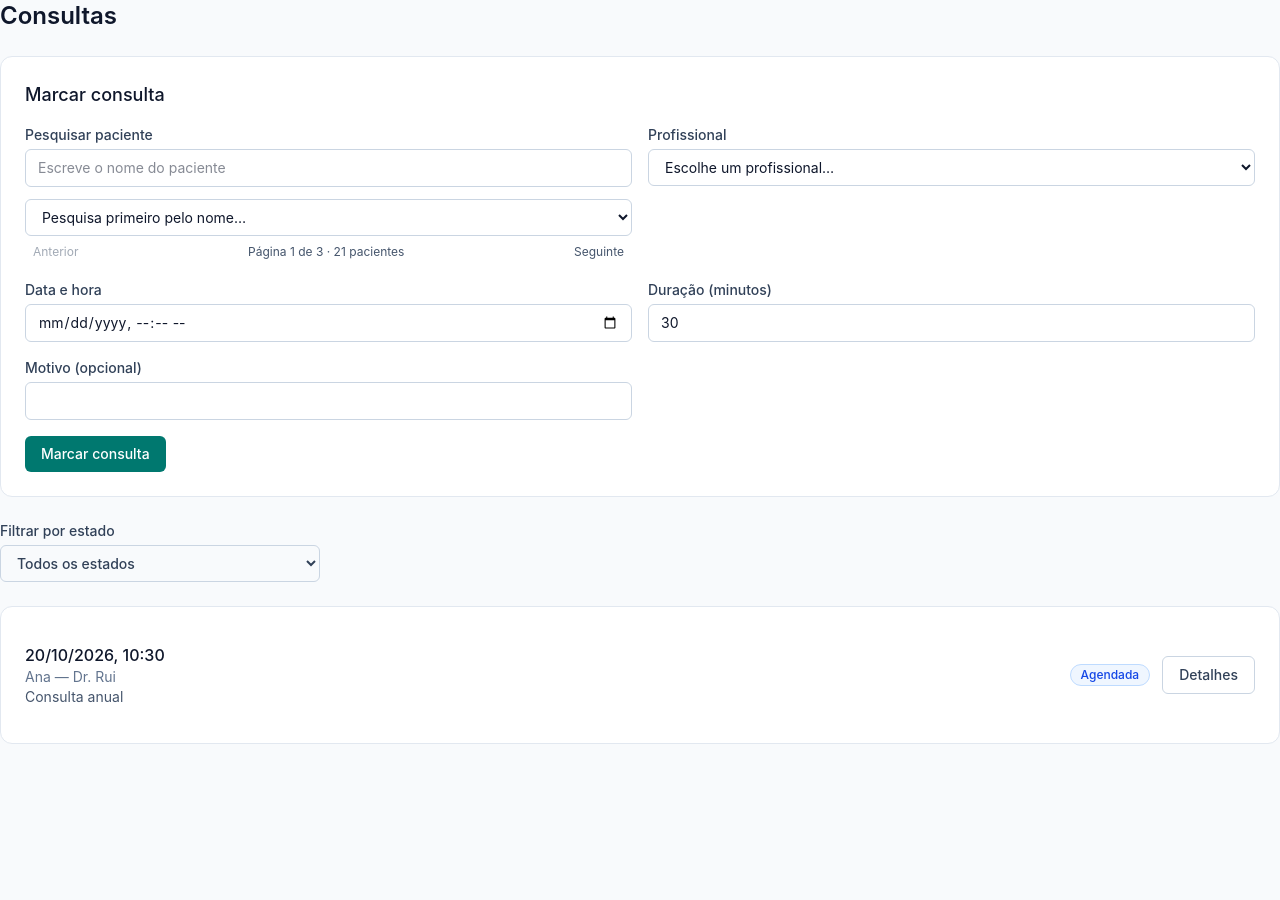
Test case: AppointmentsPage clinical workflow › updates and explicitly cancels an existing appointment
Click the button "Detalhes". click: (1209, 675)
box: x1=1162 y1=656 x2=1255 y2=694
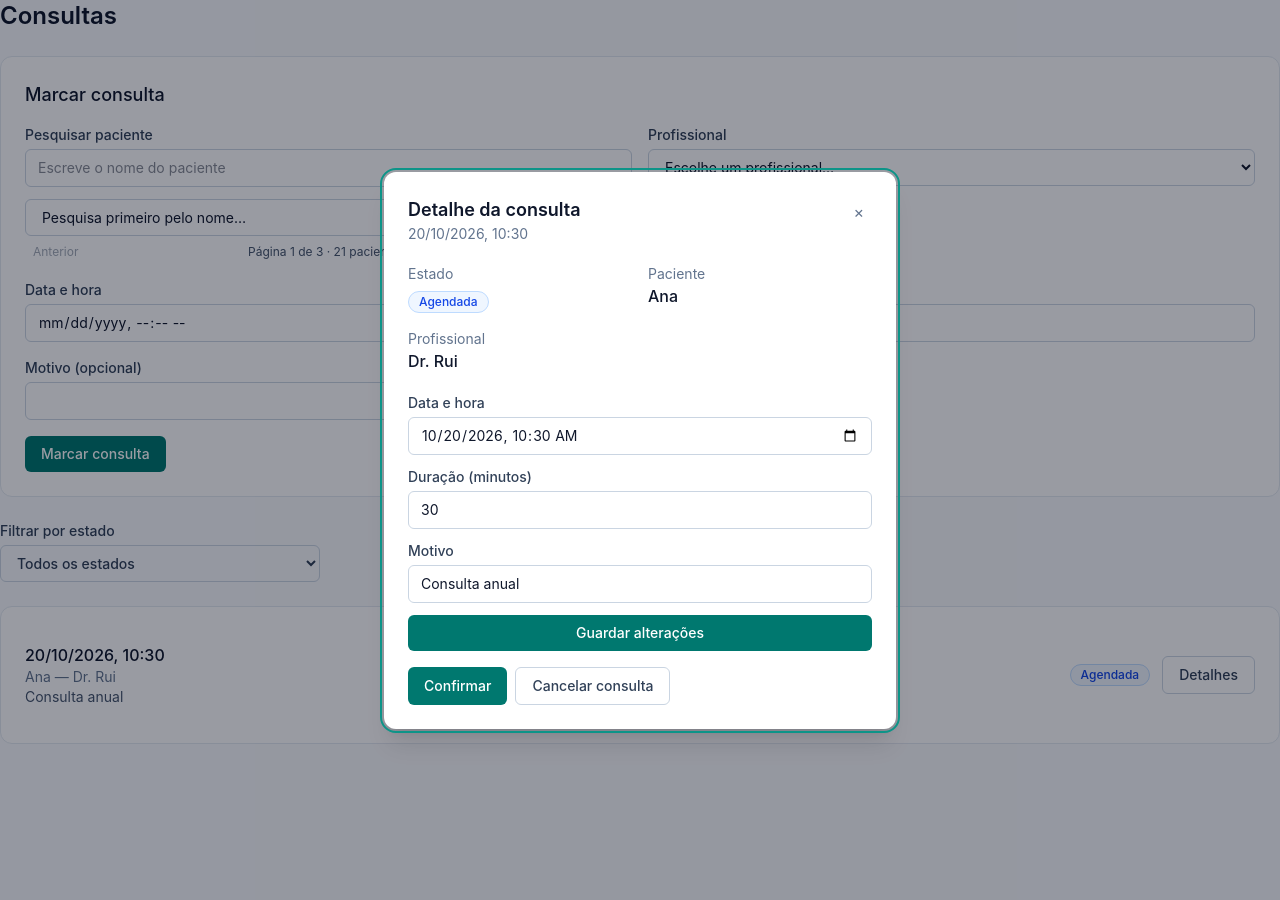
Expected: the number field labelled "Duração (minutos)" is shown
Replace the text in the number field labelled "Duração (minutos)" with "45". click: (640, 510)
box: x1=408 y1=490 x2=872 y2=528
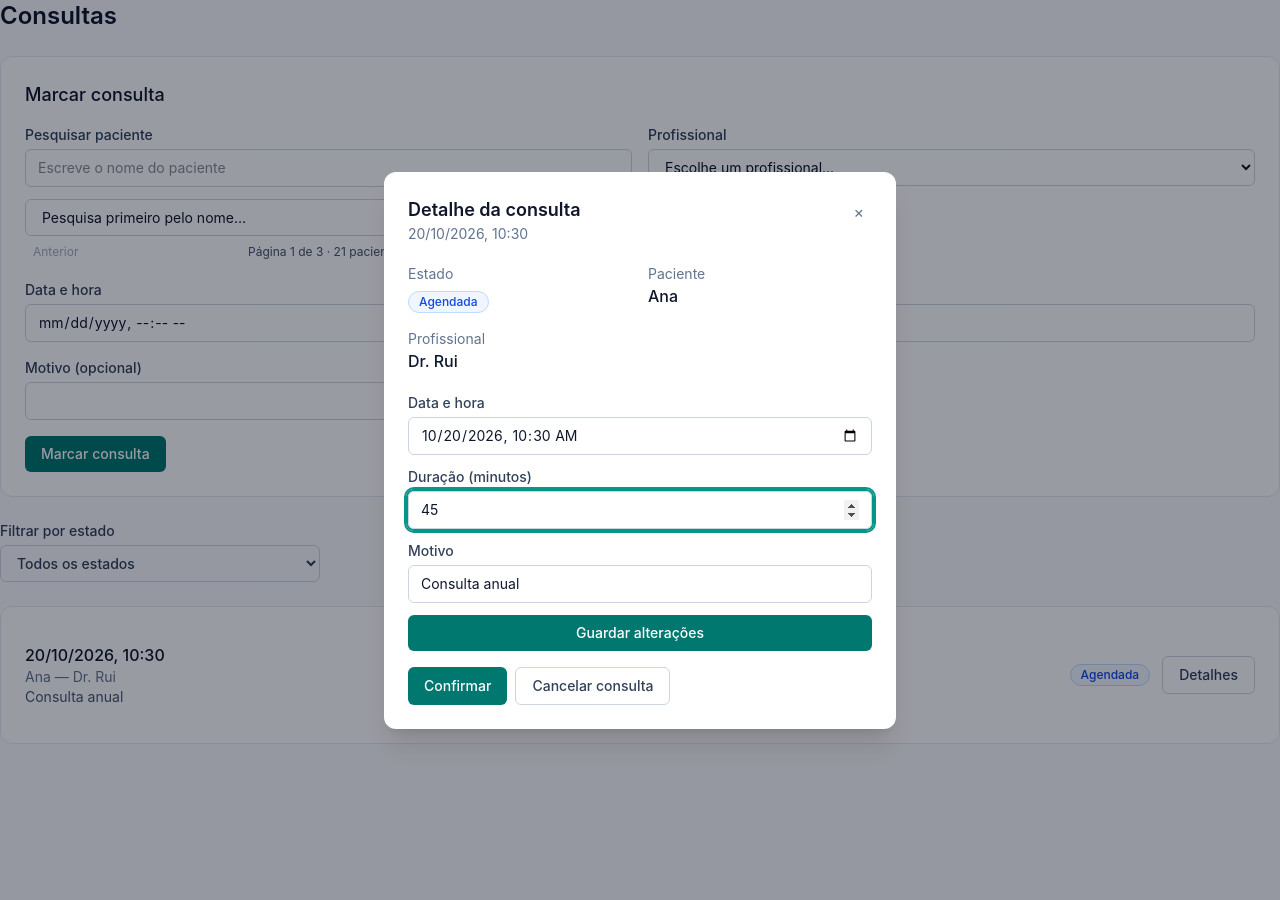
Click the button "Guardar alterações". click: (640, 632)
box: x1=408 y1=614 x2=872 y2=650
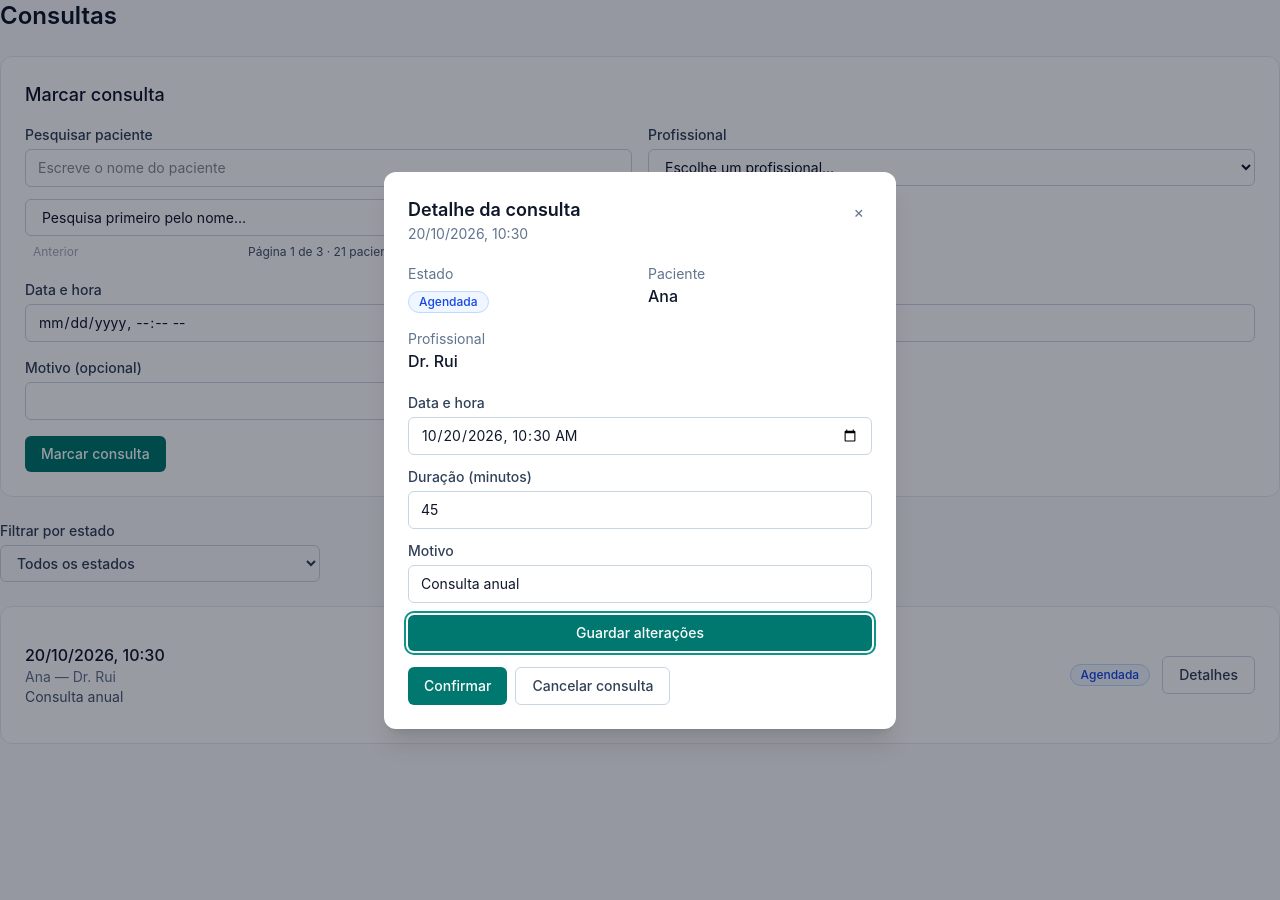
Click the button "Cancelar consulta". click: (593, 686)
box: x1=515 y1=666 x2=670 y2=704
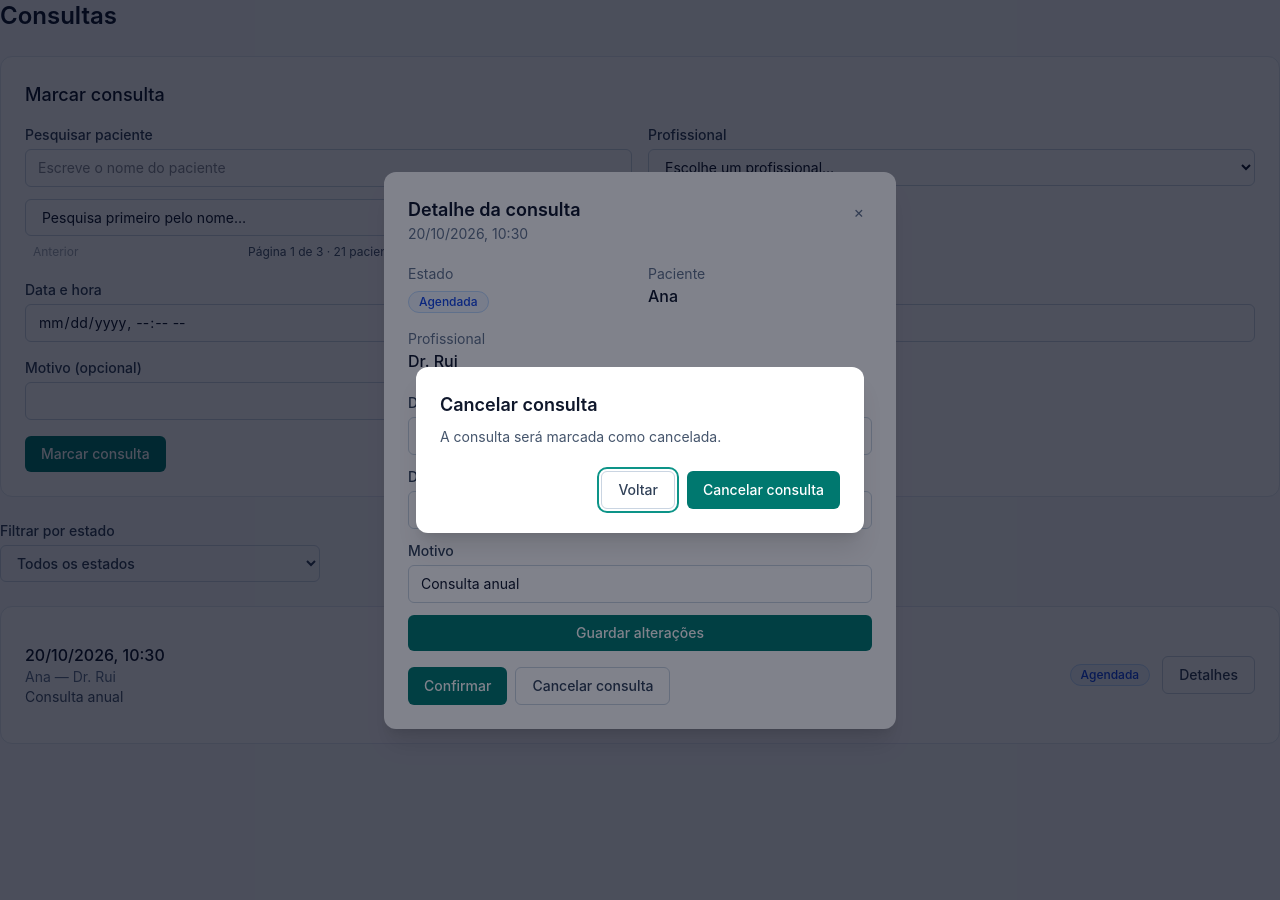
Click the button "Cancelar consulta". click: (764, 490)
box: x1=687 y1=471 x2=840 y2=509
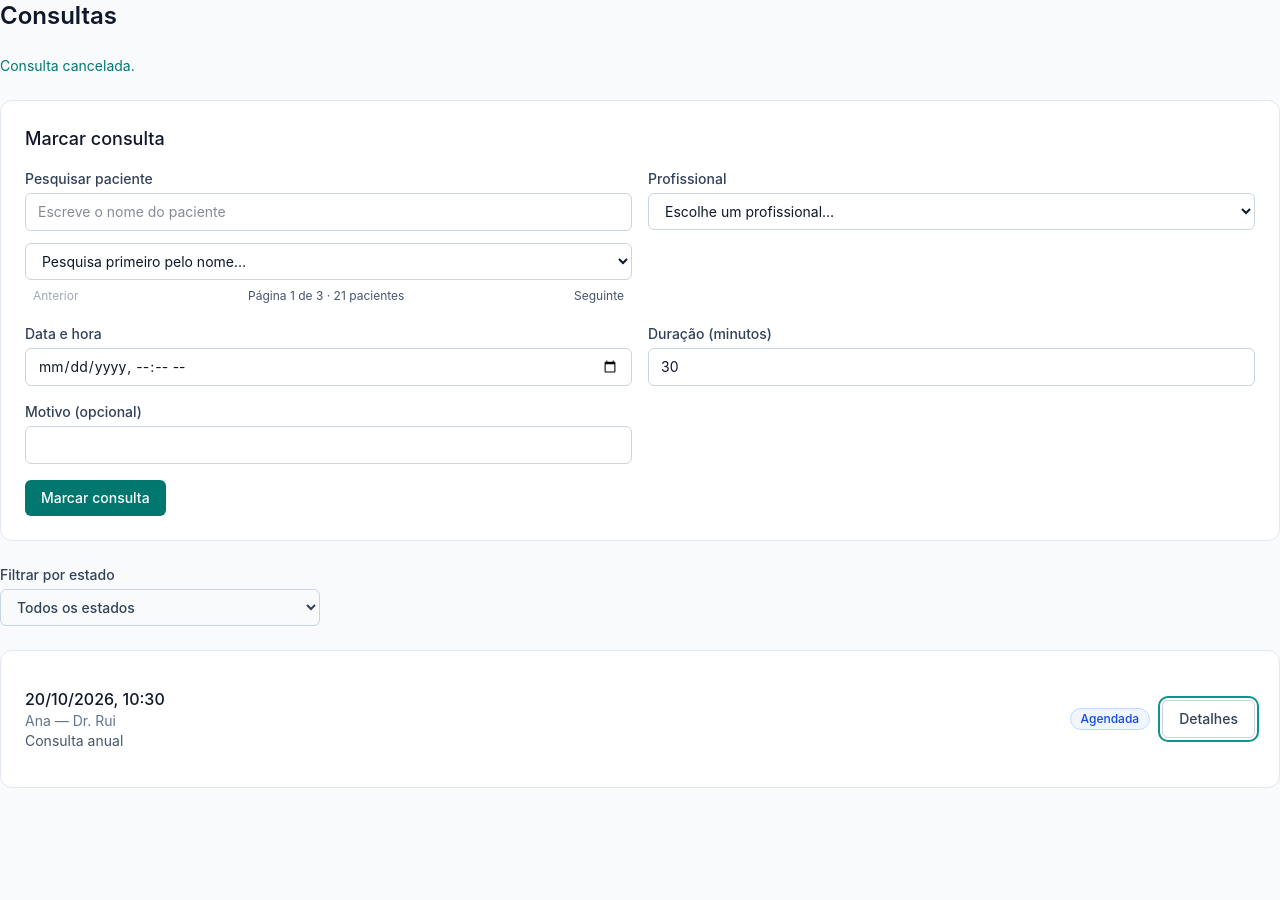
Expected: the message reads "Consulta cancelada.", x1=0 y1=57 x2=135 y2=74
